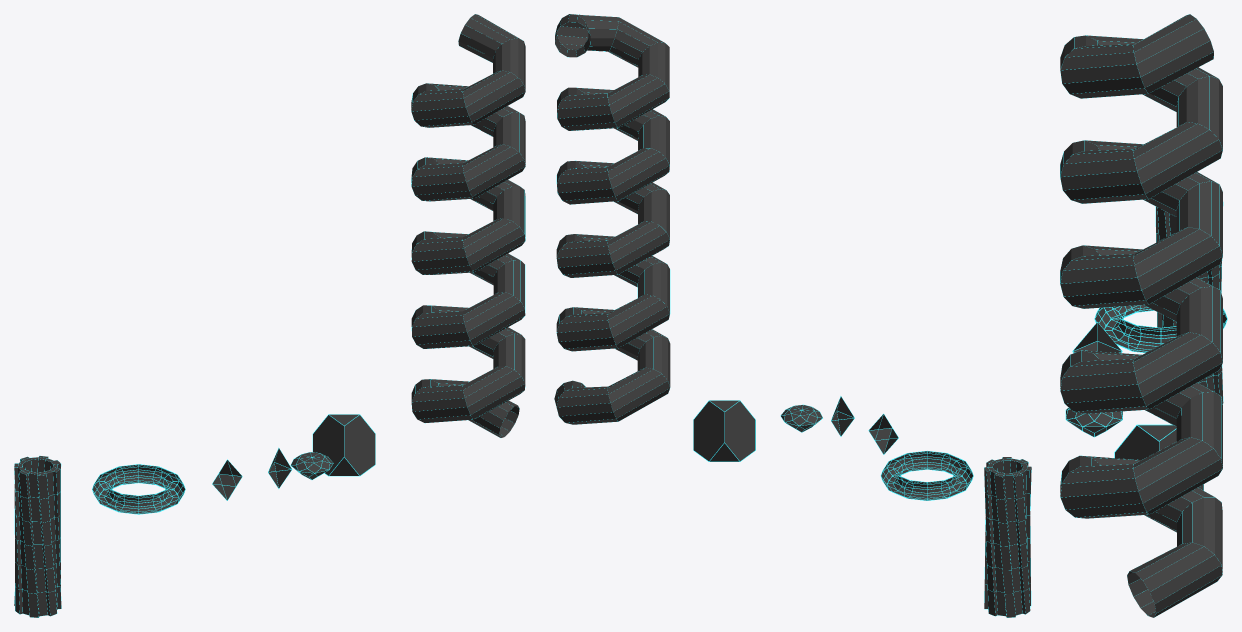
File: Fixed assets.fbx
3 views of the same model, side by side, from view 1: azimuth 30°, elevation 25°; view 2: azimuth 150°, elevation 25°; view 3: azimuth 270°, elevation 25° (orthographic). The views are drawn at different scales.
Parts seen in each view (by area): view 1: Spiral.003, Gear, Torus.001, Solid, Gem; view 2: Spiral.003, Gear, Solid, Torus.001, Gem, Solid.001; view 3: Spiral.003, Torus.001, Solid, Gear, Gem, Solid.001.
Part boxes in pixels (x1,y1,x2,y2): Spiral.003: [411, 14, 525, 437]; Gear: [14, 455, 61, 617]; Torus.001: [92, 464, 185, 514]; Solid: [312, 414, 375, 476]; Gem: [290, 452, 333, 479]; Spiral.003: [554, 14, 670, 424]; Gear: [984, 457, 1031, 617]; Solid: [693, 400, 755, 461]; Torus.001: [880, 450, 973, 500]; Gem: [780, 404, 822, 432]; Solid.001: [868, 413, 898, 454]; Spiral.003: [1060, 14, 1222, 617]; Torus.001: [1094, 305, 1227, 352]; Solid: [1114, 424, 1203, 490]; Gear: [1155, 202, 1223, 403]; Gem: [1065, 407, 1122, 437]; Solid.001: [1072, 322, 1122, 352].
Size of the model in its own units: 9640 by 9084 by 2002.
